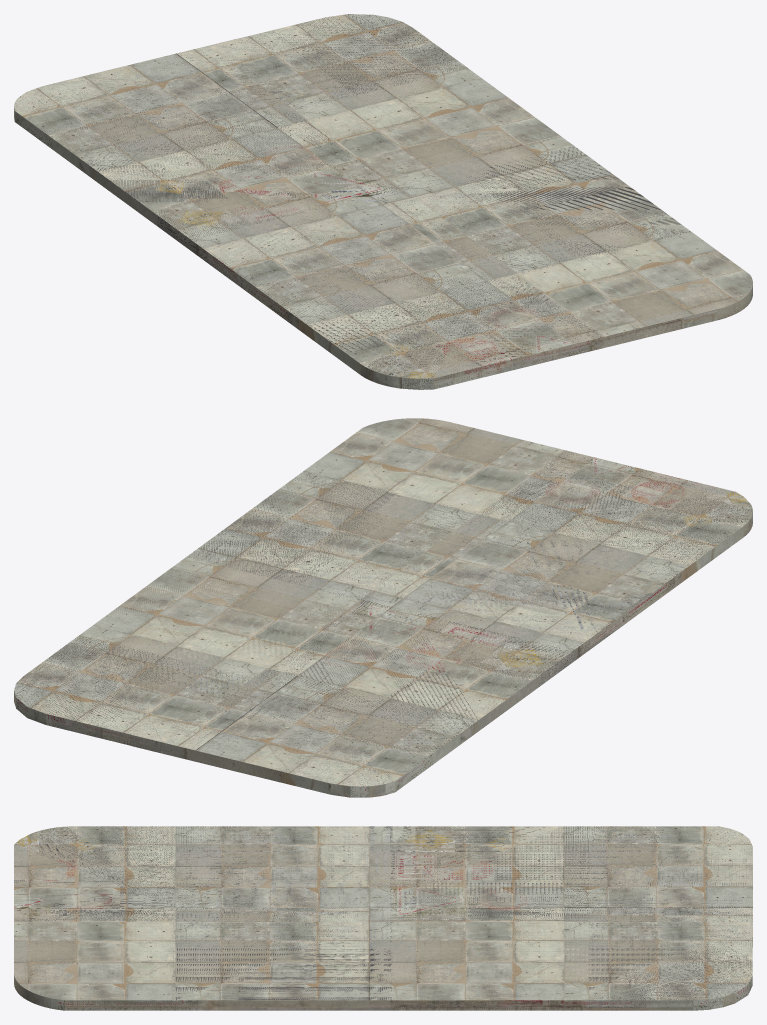
Rendered from Block 1.fbx.
3 renders of one model, top to bottom at view 1: azimuth 30°, elevation 25°; view 2: azimuth 150°, elevation 25°; view 3: azimuth 270°, elevation 25°, orthographic. The views are drawn at different scales.
Visible parts, largest first — view 1: Component_1_1; view 2: Component_1_1; view 3: Component_1_1.
Part boxes in pixels (x1,y1,x2,y2): Component_1_1: (14, 14, 752, 389); Component_1_1: (14, 418, 752, 797); Component_1_1: (14, 826, 752, 1010).
Bounding box in the file's own units: 221 × 6.12 × 396.
